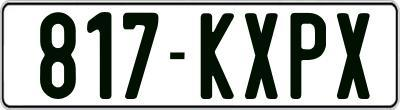1: (84, 12, 109, 103)
7: (121, 10, 159, 102)
8: (39, 11, 80, 98)
K: (200, 13, 237, 100)
P: (289, 13, 324, 102)
X: (337, 11, 373, 102), (244, 12, 278, 101)
